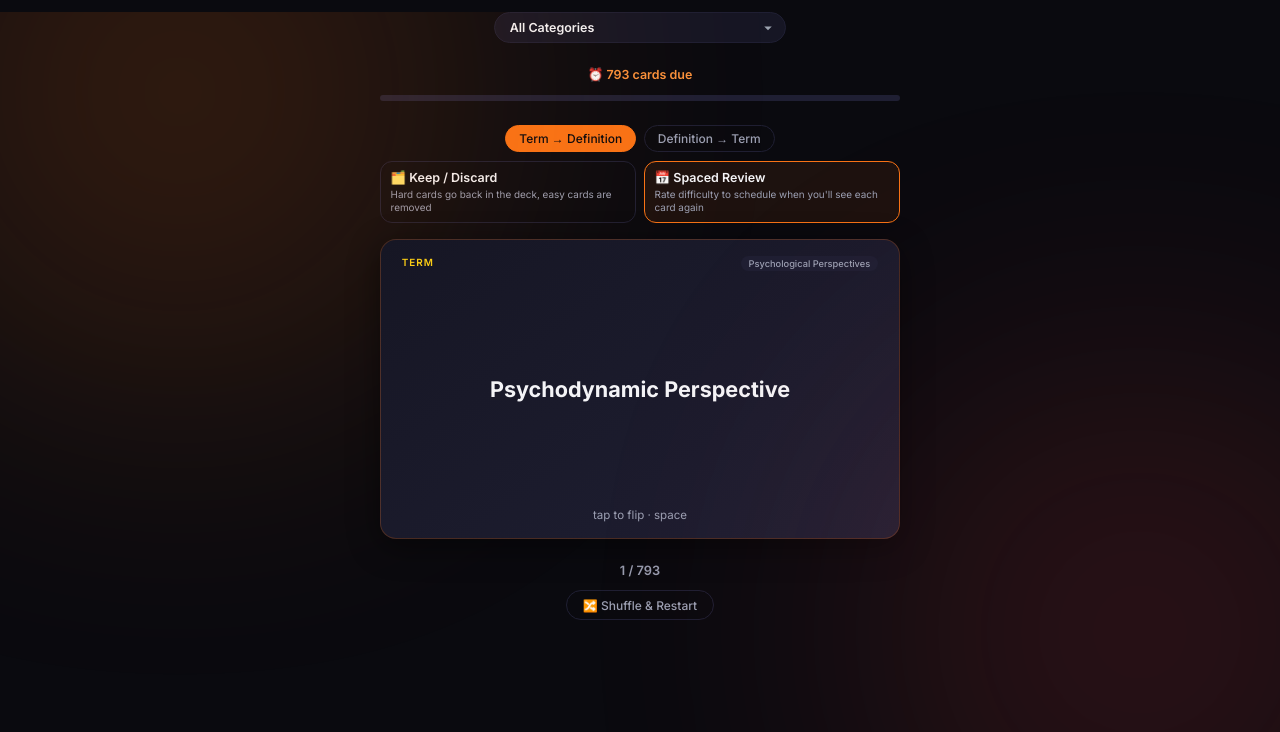
Test: Flashcards › shows SRS buttons when spaced review mode is selected
Click the text "tap to flip · space" at (640, 388), box [380,238,900,538]
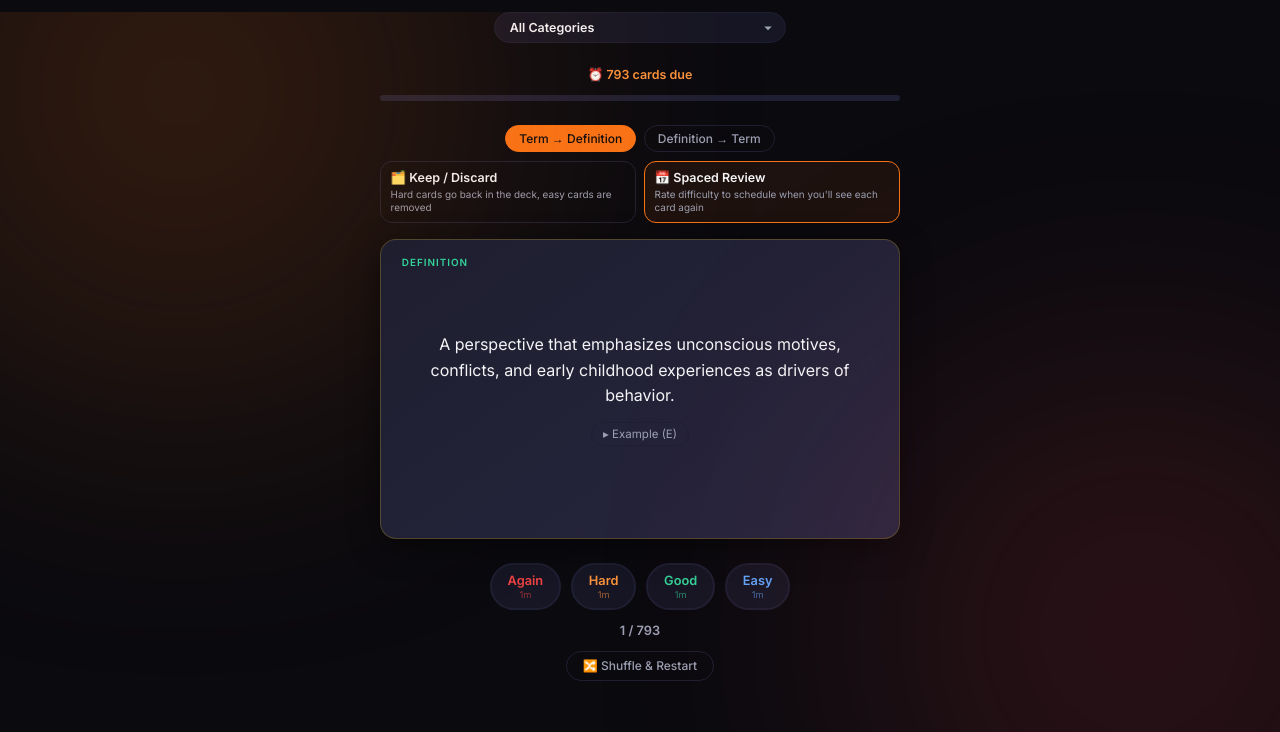
Result: the button "Again 1m" is shown at [490,562,561,610]
Result: the button "Good 1m" is shown at [646,562,715,610]
